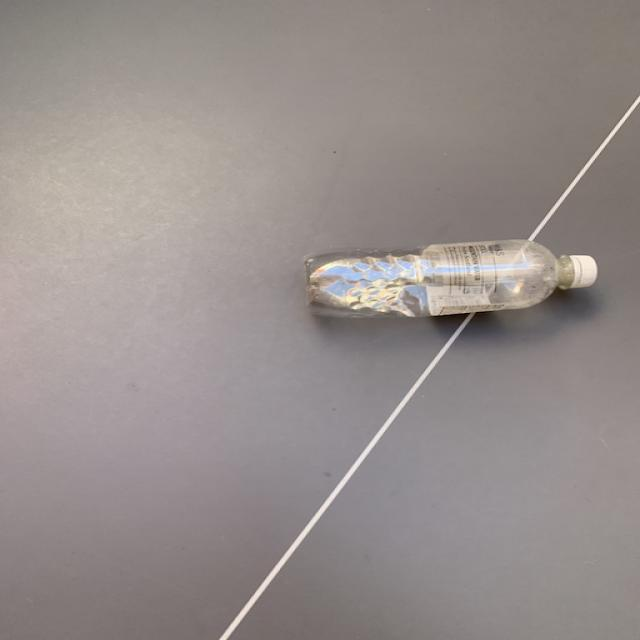Waste: (306, 240, 599, 317)
